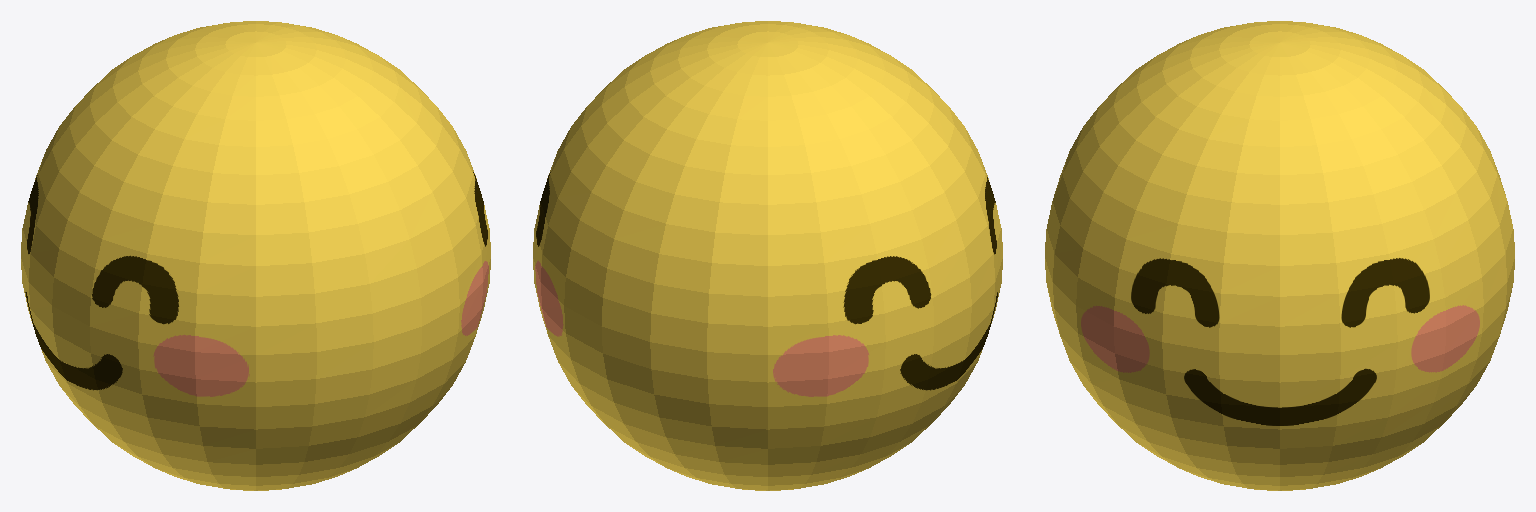
3 views of the same model, side by side, from view 1: azimuth 30°, elevation 25°; view 2: azimuth 150°, elevation 25°; view 3: azimuth 270°, elevation 25° (orthographic).
Parts seen in each view (by area): view 1: Sphere; view 2: Sphere; view 3: Sphere.
Part boxes in pixels (left/top/right/bottom): Sphere: left=21, top=21, right=490, bottom=490; Sphere: left=533, top=21, right=1002, bottom=490; Sphere: left=1045, top=21, right=1514, bottom=490.
Bounding box in the file's own units: 1 × 1 × 1.
Materials: 1 (1 with a texture image).